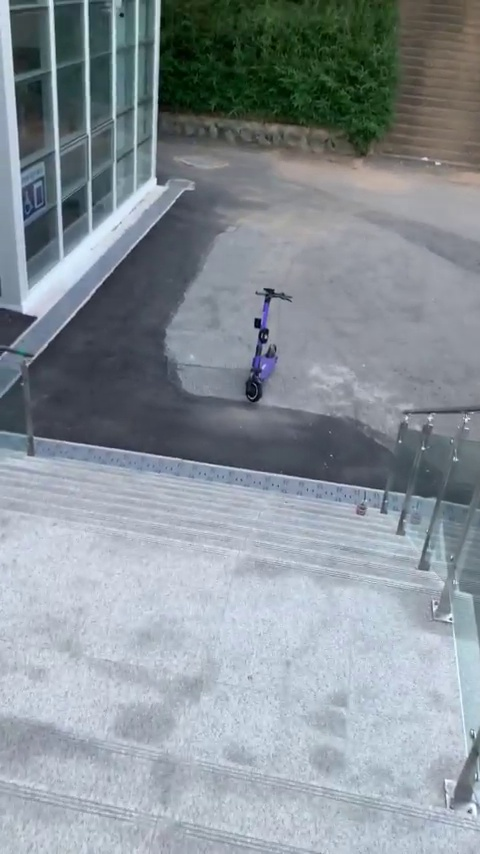beam: (235, 281, 290, 412)
